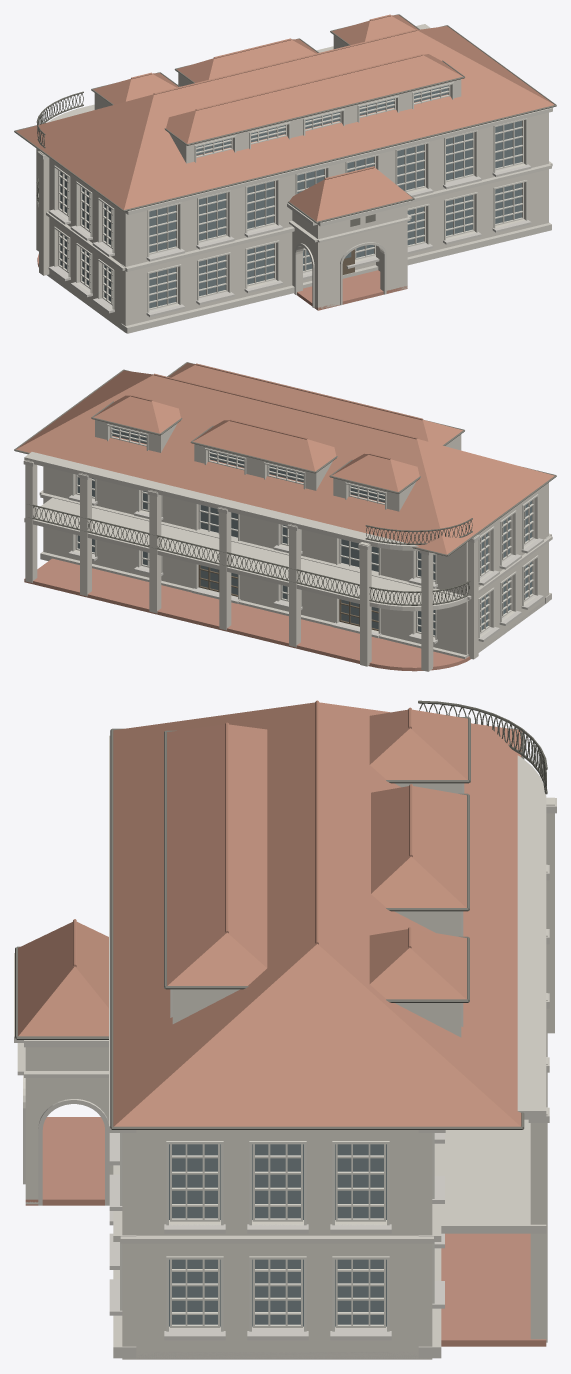
The model's file is jingan-huashan-american-school-office-raw.glb.
3 renders of one model, top to bottom at view 1: azimuth 30°, elevation 25°; view 2: azimuth 150°, elevation 25°; view 3: azimuth 270°, elevation 25°, orthographic. The views are drawn at different scales.
Parts seen in each view (by area): view 1: 华山路原美国学校办公楼; view 2: 华山路原美国学校办公楼; view 3: 华山路原美国学校办公楼.
Part boxes in pixels (x1,y1,x2,y2): 华山路原美国学校办公楼: (14,14,556,333); 华山路原美国学校办公楼: (14,362,556,671); 华山路原美国学校办公楼: (14,700,556,1359).
Bounding box in the file's own units: 29.97 × 11.98 × 17.16.
